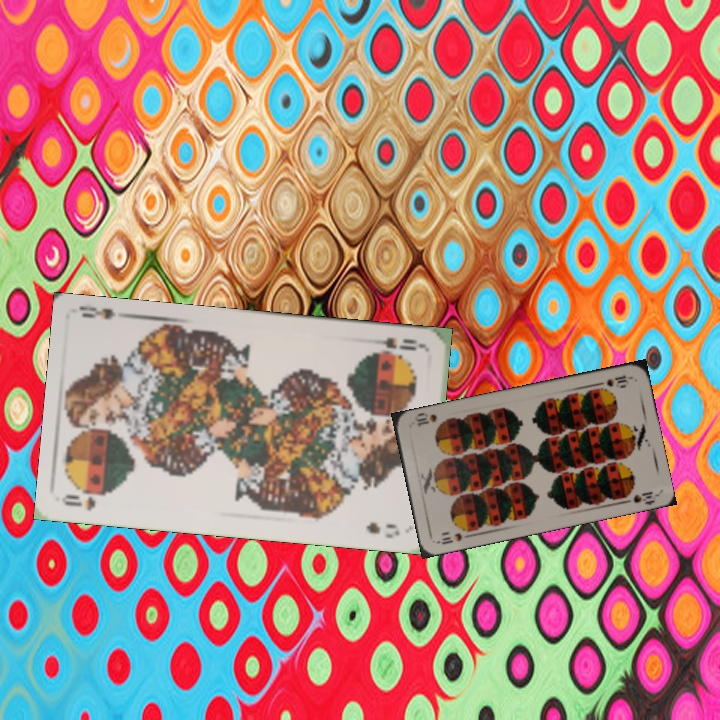S10: (434, 525, 474, 547), (593, 371, 633, 389)
SO: (365, 333, 425, 353), (59, 490, 98, 513)
